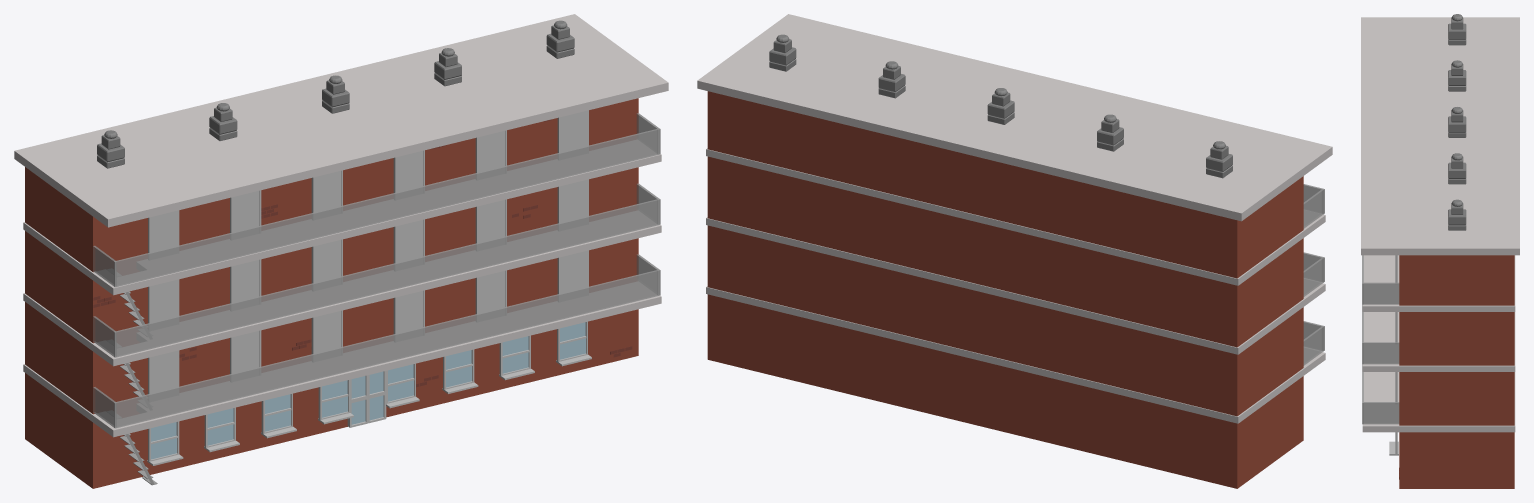
Rendered from flat_niet_inloop.fbx.
3 views of the same model, side by side, from view 1: azimuth 30°, elevation 25°; view 2: azimuth 150°, elevation 25°; view 3: azimuth 270°, elevation 25° (orthographic). The views are drawn at different scales.
Parts seen in each view (by area): view 1: pCube1, pCube2, group3, group2, group4, pCube176, pCube175, pCube174, polySurface14, polySurface58, polySurface63, polySurface78 (+16 smaller); view 2: pCube1, pCube2, pCube176, pCube175, pCube174, group2, group4, group3; view 3: pCube2, pCube1, pCube176, pCube175, pCube174, group3, group4, group2, pCube285, pCube201, pCube283, pCube291 (+1 smaller).
Part boxes in pixels (left/top/right/bottom): pCube1: left=25, top=98, right=638, bottom=488; pCube2: left=14, top=14, right=668, bottom=227; group3: left=93, top=183, right=660, bottom=357; group2: left=93, top=113, right=660, bottom=287; group4: left=93, top=254, right=660, bottom=428; pCube176: left=23, top=295, right=661, bottom=437; pCube175: left=23, top=225, right=661, bottom=366; pCube174: left=23, top=154, right=661, bottom=295; polySurface14: left=351, top=371, right=383, bottom=424; polySurface58: left=560, top=180, right=587, bottom=222; polySurface63: left=478, top=200, right=505, bottom=242; polySurface78: left=478, top=271, right=505, bottom=313; pCube1: left=707, top=91, right=1303, bottom=488; pCube2: left=697, top=14, right=1332, bottom=221; pCube176: left=706, top=286, right=1325, bottom=423; pCube175: left=706, top=217, right=1325, bottom=354; pCube174: left=706, top=148, right=1325, bottom=285; group2: left=1303, top=184, right=1324, bottom=228; group4: left=1303, top=321, right=1324, bottom=365; group3: left=1303, top=252, right=1324, bottom=296; pCube2: left=1361, top=17, right=1519, bottom=255; pCube1: left=1399, top=255, right=1514, bottom=488; pCube176: left=1362, top=372, right=1515, bottom=432; pCube175: left=1362, top=312, right=1515, bottom=371; pCube174: left=1362, top=255, right=1515, bottom=311; group3: left=1362, top=304, right=1399, bottom=364; group4: left=1362, top=364, right=1399, bottom=424; group2: left=1362, top=255, right=1399, bottom=304; pCube285: left=1448, top=116, right=1466, bottom=132; pCube201: left=1448, top=162, right=1466, bottom=178; pCube283: left=1448, top=209, right=1466, bottom=225; pCube291: left=1448, top=23, right=1466, bottom=39.
Size of the model in its own units: 18.41 by 10.02 by 5.33.
